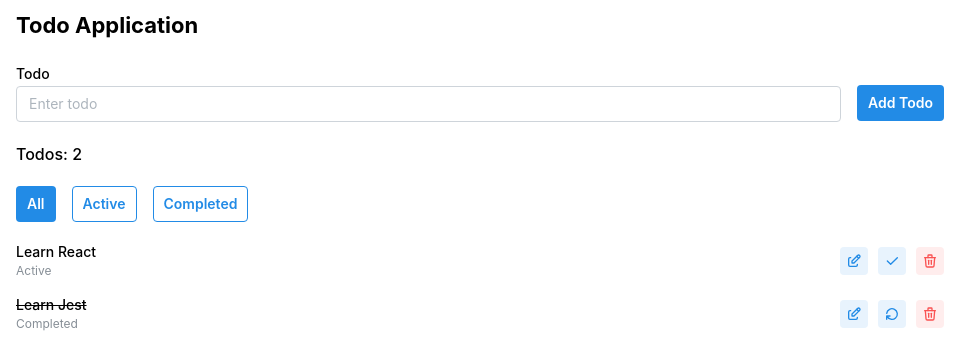
it: Todo Application › cancel editing
Click the button named "Edit" in the row of "Learn React" at (854, 261), box x1=840 y1=247 x2=868 y2=275
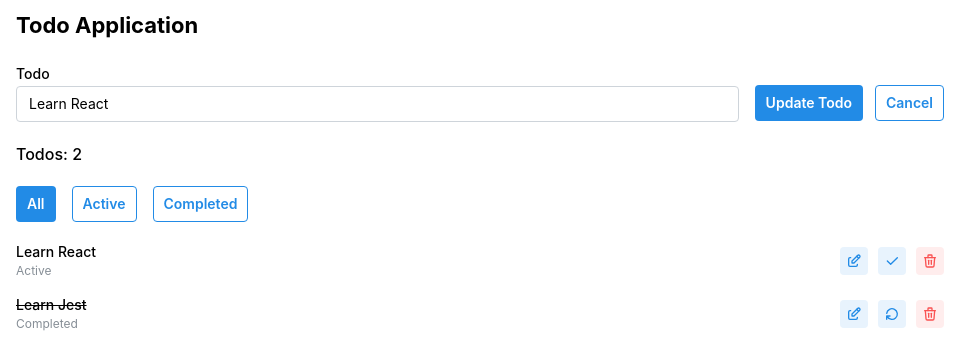
Check: the button "Update Todo" is shown, box x1=755 y1=85 x2=863 y2=121
Click the button "Cancel" at (910, 103), box x1=875 y1=85 x2=944 y2=121
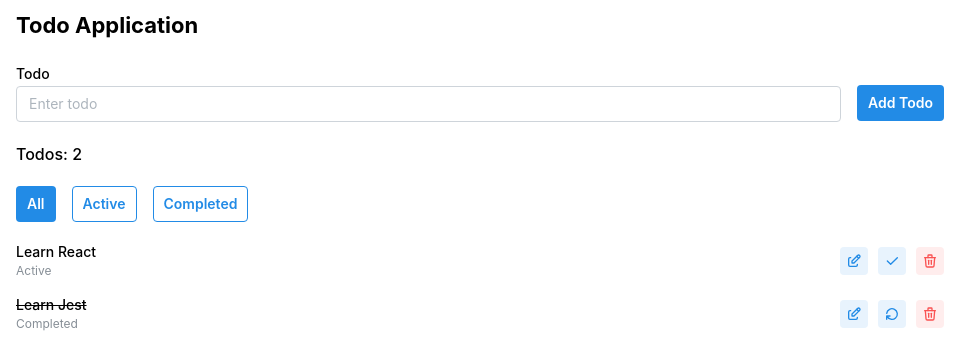
Check: the button "Add Todo" is shown, box x1=857 y1=85 x2=944 y2=121
